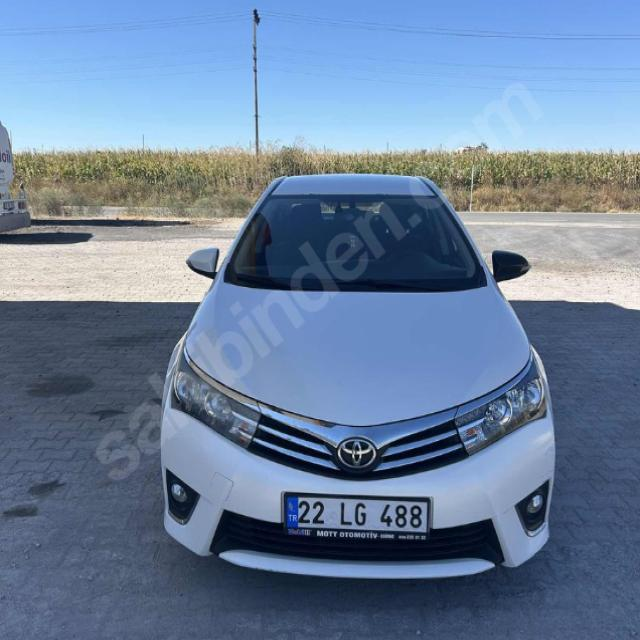toyota: (332, 430, 382, 472)
